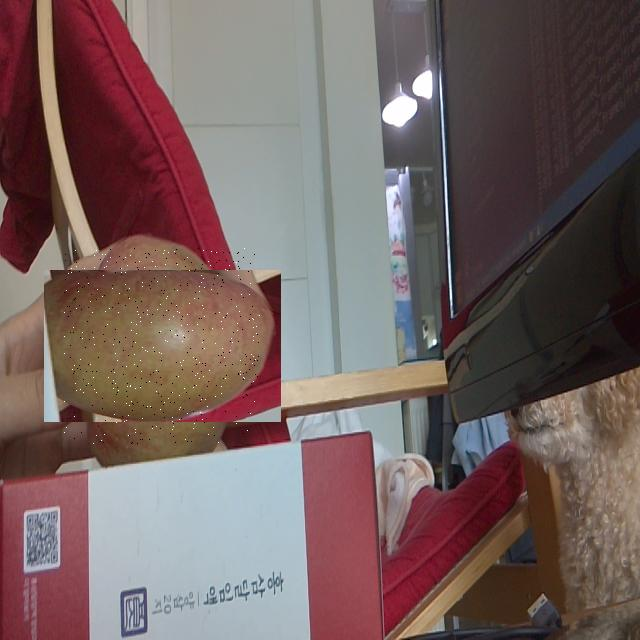apple: (64, 248, 260, 444)
